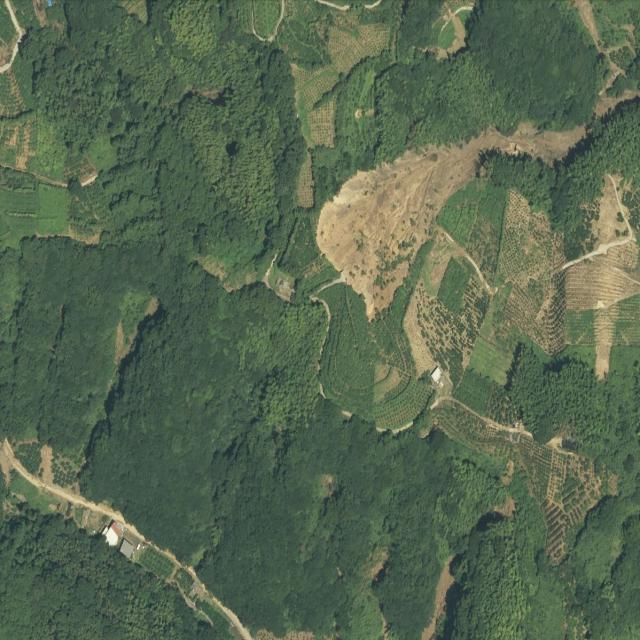landslide: (317, 123, 586, 319)
